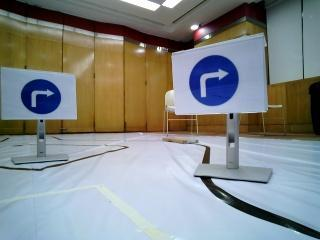right: (175, 57, 255, 109), (7, 68, 71, 119)
